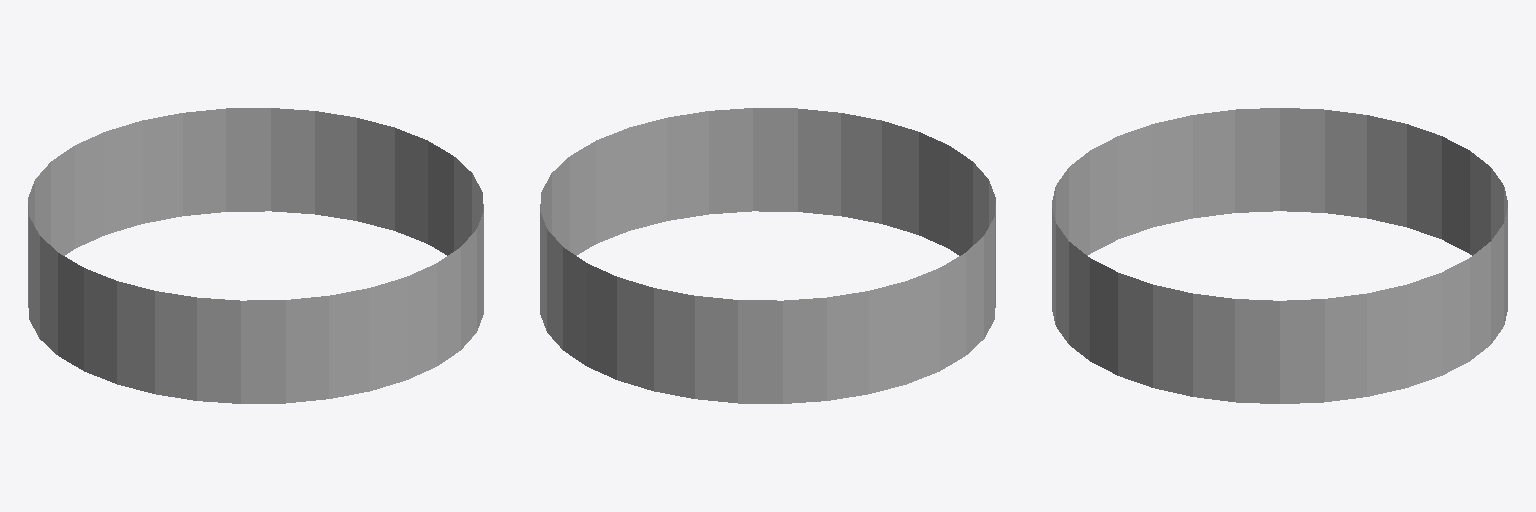
Rendered from arenaWall.obj.
3 renders of one model, left to right at view 1: azimuth 30°, elevation 25°; view 2: azimuth 150°, elevation 25°; view 3: azimuth 270°, elevation 25°, orthographic.
Parts seen in each view (by area): view 1: Cylinder; view 2: Cylinder; view 3: Cylinder.
Boxes of the visible parts, <box> form: Cylinder: <box>28,108,483,403</box>; Cylinder: <box>540,108,995,403</box>; Cylinder: <box>1052,108,1507,403</box>.
Size of the model in its own units: 2 by 0.5 by 2.